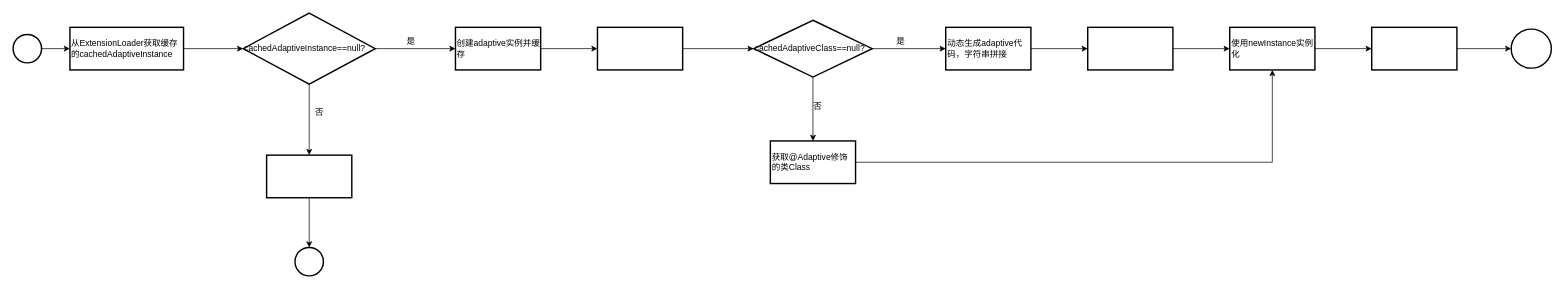
Some shapes in this 1564 by 288 pixel diagram are drawn without their labels. Here are the shapes that lost their labels. From the top down, the centre of each, then its label:
At (639,48): "查询是否有@Adaptive修饰的类".
At (1130,48): "默认使用javassist编译生成Xxx$Adaptive类".
At (1414,48): "injectExtension,通过setter方法注入依赖的Extension或Spring Bean".
At (309,176): "返回实例".
